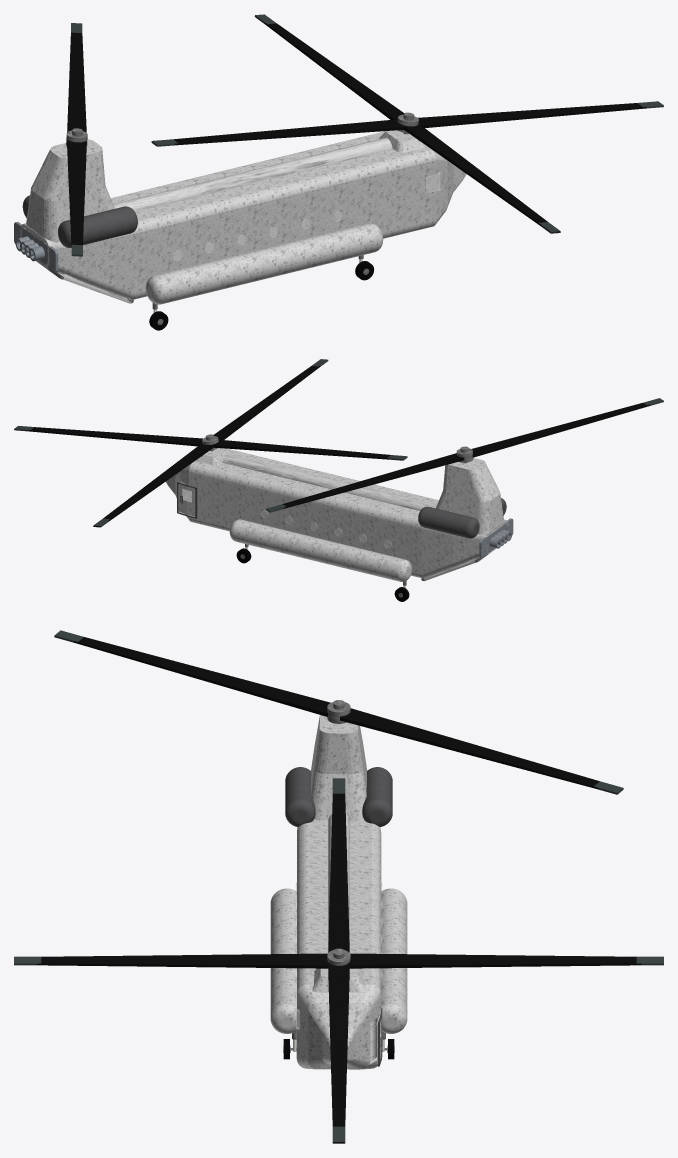
Rendered from Military_helicopter__0633.glb.
3 renders of one model, top to bottom at view 1: azimuth 30°, elevation 25°; view 2: azimuth 150°, elevation 25°; view 3: azimuth 270°, elevation 25°, orthographic. The views are drawn at different scales.
Parts seen in each view (by area): view 1: fuselage::hull, fuselage::right_sponson, fuselage::rear_pylon, fuselage::spine_fairing, front_rotor::blade_2, front_rotor::blade_0, front_rotor::blade_3, fuselage::right_engine_nacelle, front_rotor::blade_1, rear_rotor::blade_1, rear_rotor::blade_0, fuselage::rear_exhaust (+1 smaller); view 2: fuselage::hull, fuselage::left_sponson, fuselage::rear_pylon, fuselage::spine_fairing, rear_rotor::blade_0, rear_rotor::blade_1, fuselage::left_engine_nacelle, front_rotor::blade_2, front_rotor::blade_0, front_rotor::blade_1, front_rotor::blade_3, fuselage::rear_exhaust (+2 smaller); view 3: fuselage::hull, fuselage::rear_pylon, front_rotor::blade_1, front_rotor::blade_3, fuselage::right_sponson, fuselage::left_sponson, rear_rotor::blade_0, rear_rotor::blade_1, front_rotor::blade_0, front_rotor::blade_2, fuselage::left_engine_nacelle, fuselage::right_engine_nacelle (+1 smaller).
Boxes of the visible parts, x1,y1,x2,y2 form: fuselage::hull: [20, 131, 466, 300]; fuselage::right_sponson: [145, 223, 383, 304]; fuselage::rear_pylon: [25, 139, 114, 243]; fuselage::spine_fairing: [113, 137, 392, 211]; front_rotor::blade_2: [173, 119, 406, 145]; front_rotor::blade_0: [418, 103, 646, 127]; front_rotor::blade_3: [403, 124, 560, 233]; fuselage::right_engine_nacelle: [58, 206, 137, 247]; front_rotor::blade_1: [265, 23, 403, 120]; rear_rotor::blade_1: [67, 140, 86, 246]; rear_rotor::blade_0: [67, 32, 86, 132]; fuselage::rear_exhaust: [14, 222, 58, 272]; fuselage::hull: [166, 449, 508, 578]; fuselage::left_sponson: [229, 519, 411, 581]; fuselage::rear_pylon: [436, 458, 504, 534]; fuselage::spine_fairing: [222, 453, 436, 510]; rear_rotor::blade_0: [283, 453, 464, 508]; rear_rotor::blade_1: [472, 403, 650, 457]; fuselage::left_engine_nacelle: [418, 506, 479, 538]; front_rotor::blade_2: [211, 439, 390, 459]; front_rotor::blade_0: [27, 427, 202, 446]; front_rotor::blade_1: [93, 443, 214, 527]; front_rotor::blade_3: [213, 366, 320, 440]; fuselage::rear_exhaust: [479, 518, 513, 557]; fuselage::hull: [296, 819, 381, 1069]; fuselage::rear_pylon: [311, 715, 367, 820]; front_rotor::blade_1: [346, 953, 641, 968]; front_rotor::blade_3: [36, 953, 331, 968]; fuselage::right_sponson: [270, 888, 296, 1033]; fuselage::left_sponson: [375, 888, 407, 1033]; rear_rotor::blade_0: [340, 708, 599, 789]; rear_rotor::blade_1: [74, 637, 330, 716]; front_rotor::blade_0: [328, 963, 349, 1143]; front_rotor::blade_2: [328, 793, 349, 952]; fuselage::left_engine_nacelle: [362, 767, 392, 826]; fuselage::right_engine_nacelle: [285, 767, 315, 826].
Size of the model in its own units: 25 by 6.56 by 17.9.
Materials: 12 (11 with a texture image).
